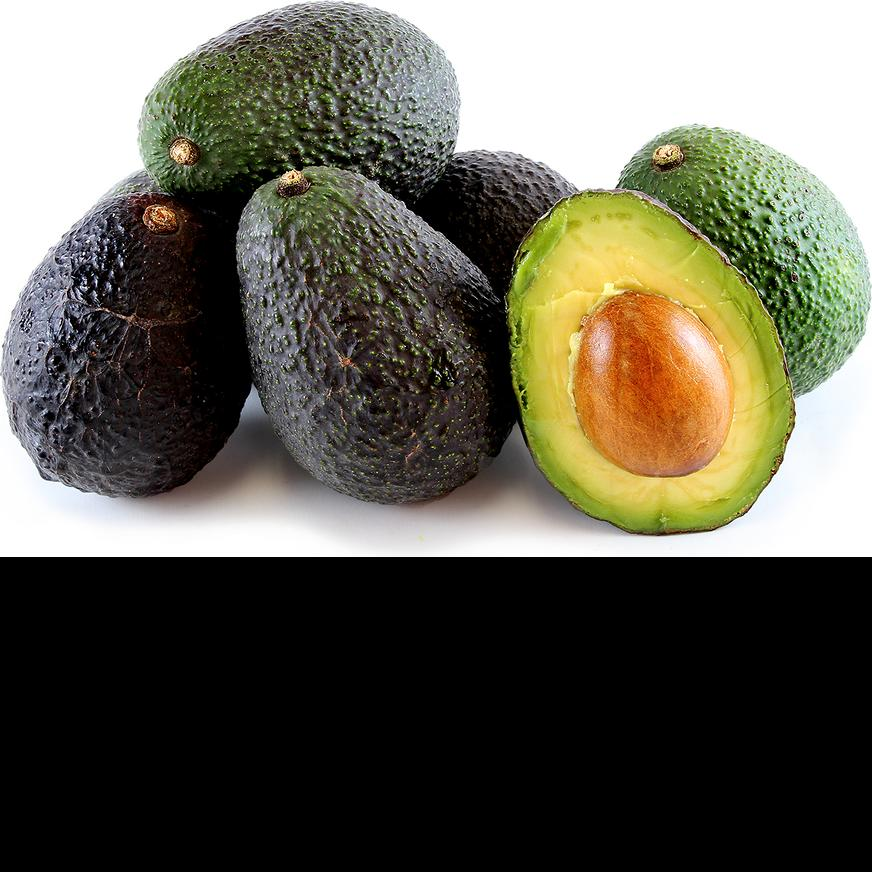almost: (235, 167, 512, 507), (137, 2, 461, 213)
ripe: (2, 194, 251, 499)
unripe: (617, 123, 871, 399)
